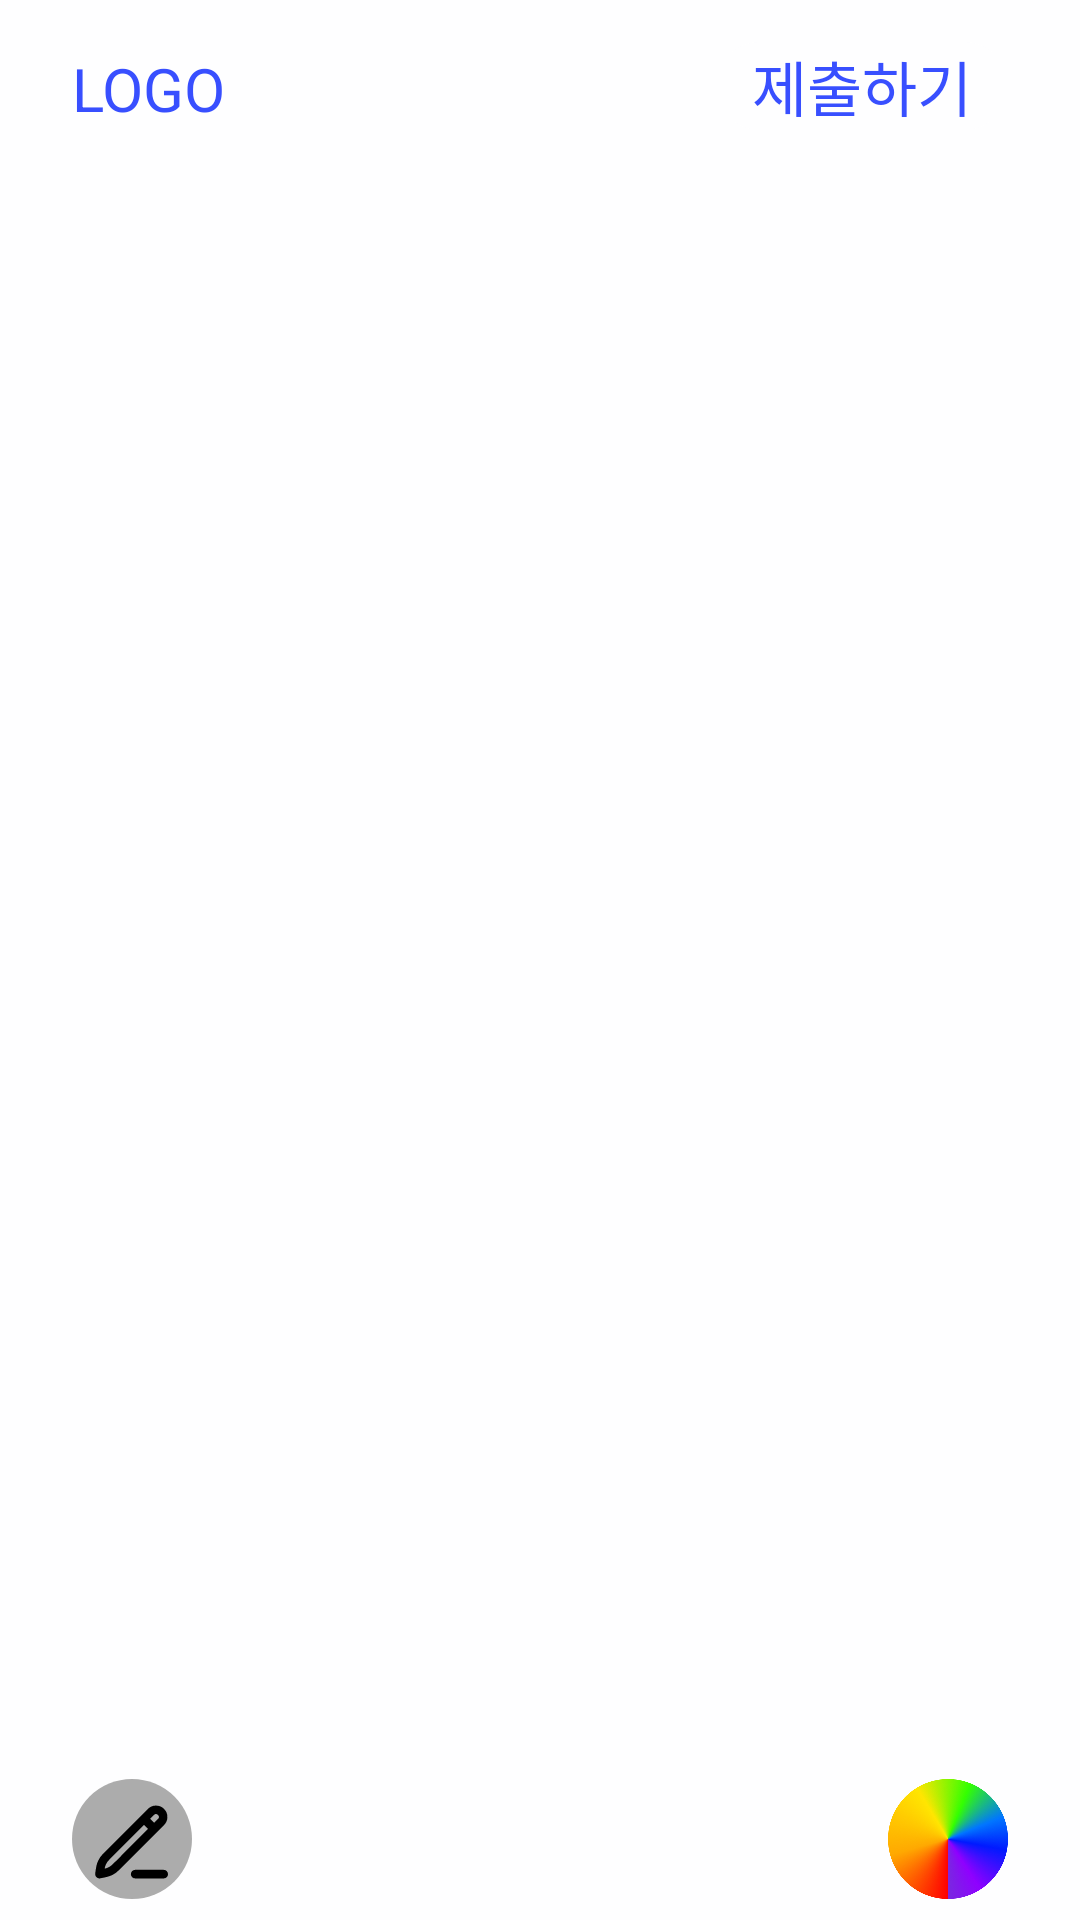

Where to tap for icons on this 1080x1920 app screen, as (x=x, y=y):
pen: (x=132, y=1839)
rainbow cricle: (x=948, y=1839)
